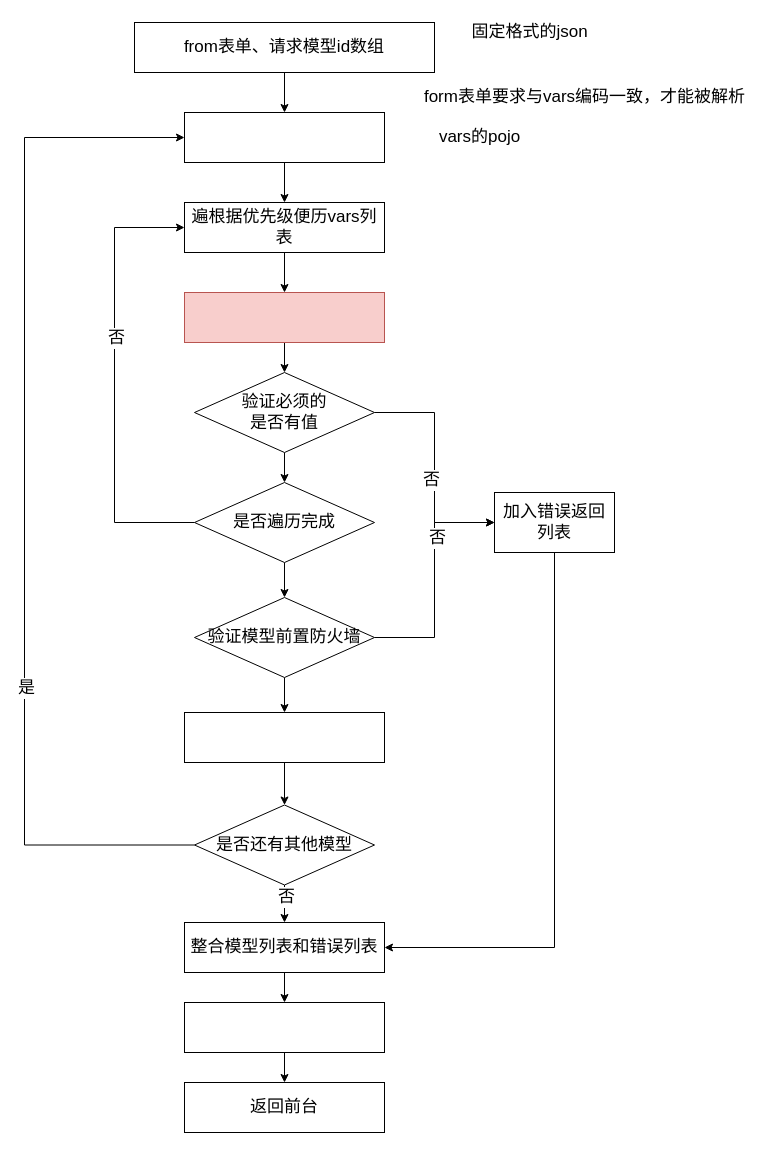
The diagram is 772 pixels wide and 1150 high, and some of its shapes have lost their labels. The box of each missing label's shape, as (x1, y1, x2, y2) in pixels:
存储到持久化表: (184, 1002, 384, 1052)
根据模型ID提取vars列表: (184, 112, 384, 162)
生成单模型返回json,加入返回列表: (184, 712, 384, 762)
计算赋值（详见赋值）: (184, 292, 384, 342)
